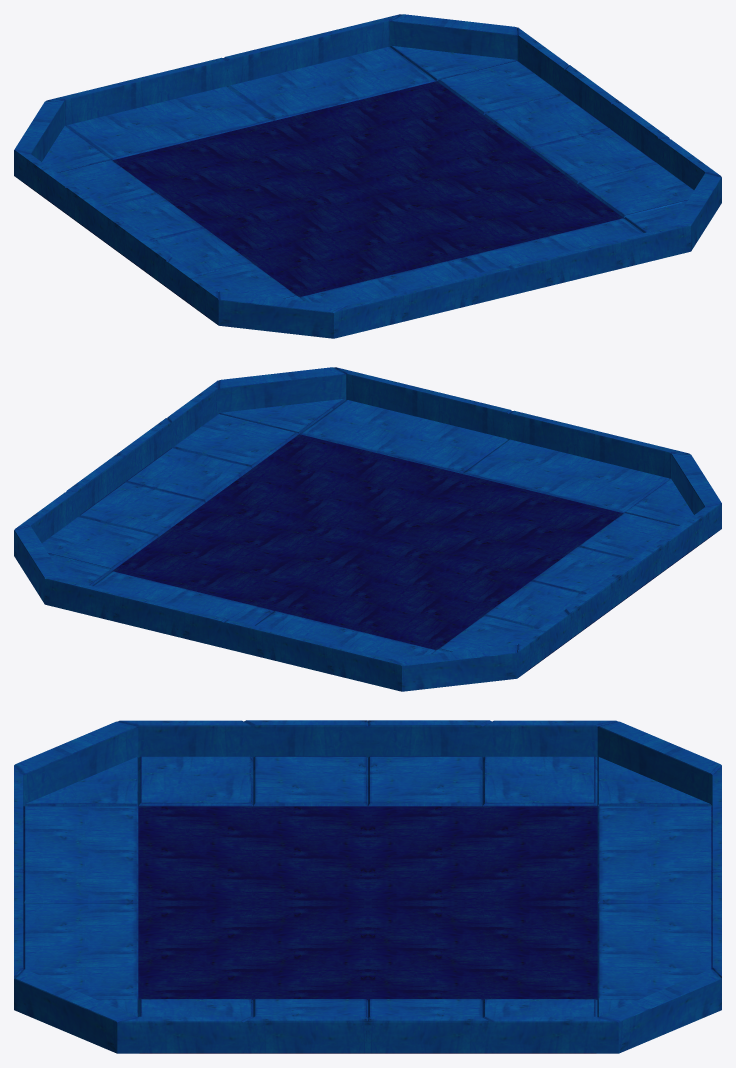
Rendered from AreanaMats.fbx.
3 views of the same model, one above another, from view 1: azimuth 30°, elevation 25°; view 2: azimuth 150°, elevation 25°; view 3: azimuth 270°, elevation 25° (orthographic). The views are drawn at different scales.
Parts seen in each view (by area): view 1: Plane; view 2: Plane; view 3: Plane.
Part boxes in pixels (box(x1,y1,x2,y2)): Plane: box(14, 14, 721, 338); Plane: box(14, 367, 721, 691); Plane: box(14, 720, 721, 1053).
Size of the model in its own units: 12.4 by 0.6314 by 12.33.
